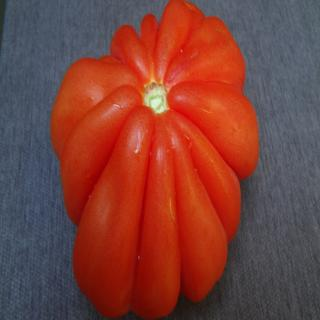tomato: (48, 0, 260, 319)
